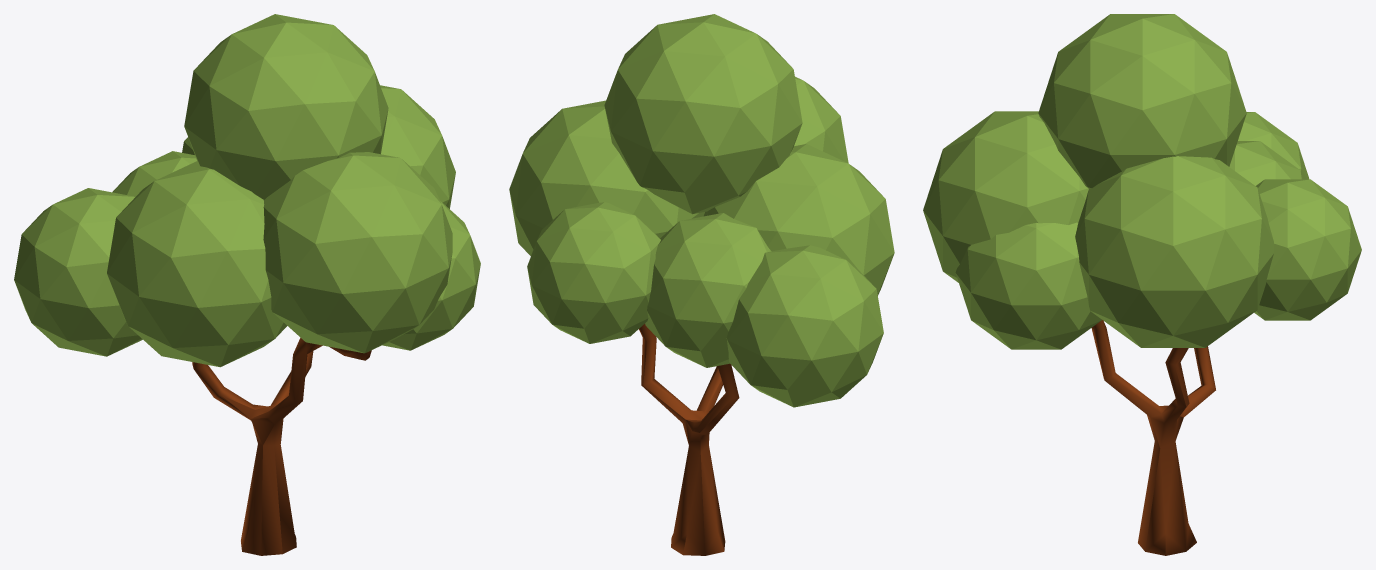
File: stage_object_tree.fbx
3 renders of one model, left to right at view 1: azimuth 30°, elevation 25°; view 2: azimuth 150°, elevation 25°; view 3: azimuth 270°, elevation 25°, orthographic. The views are drawn at different scales.
Parts seen in each view (by area): view 1: ICO球.001, ICO球.006, ICO球.003, ICO球.002, 平面, ICO球, ICO球.007, ICO球.005; view 2: ICO球.006, ICO球.002, ICO球.004, ICO球.003, ICO球.005, ICO球, 平面, ICO球.001; view 3: ICO球, ICO球.006, ICO球.001, ICO球.007, ICO球.004, 平面, ICO球.005, ICO球.002.
Boxes of the visible parts, bbox=[...] form: ICO球.001: bbox=[263, 152, 452, 353]; ICO球.006: bbox=[184, 14, 388, 199]; ICO球.003: bbox=[107, 161, 286, 367]; ICO球.002: bbox=[14, 188, 142, 356]; 平面: bbox=[192, 338, 371, 555]; ICO球: bbox=[380, 85, 455, 208]; ICO球.007: bbox=[382, 201, 480, 350]; ICO球.005: bbox=[112, 151, 196, 196]; ICO球.006: bbox=[604, 14, 802, 214]; ICO球.002: bbox=[726, 245, 883, 407]; ICO球.004: bbox=[527, 202, 660, 343]; ICO球.003: bbox=[704, 144, 894, 295]; ICO球.005: bbox=[645, 213, 771, 367]; ICO球: bbox=[509, 100, 704, 255]; 平面: bbox=[639, 324, 739, 555]; ICO球.001: bbox=[794, 76, 848, 163]; ICO球: bbox=[1075, 156, 1273, 347]; ICO球.006: bbox=[1038, 14, 1246, 188]; ICO球.001: bbox=[923, 111, 1088, 282]; ICO球.007: bbox=[955, 222, 1101, 349]; ICO球.004: bbox=[1254, 179, 1361, 320]; 平面: bbox=[1091, 320, 1215, 555]; ICO球.005: bbox=[1229, 141, 1303, 185]; ICO球.002: bbox=[1238, 112, 1309, 179].
Size of the model in its own units: 76.33 by 100 by 75.55.
